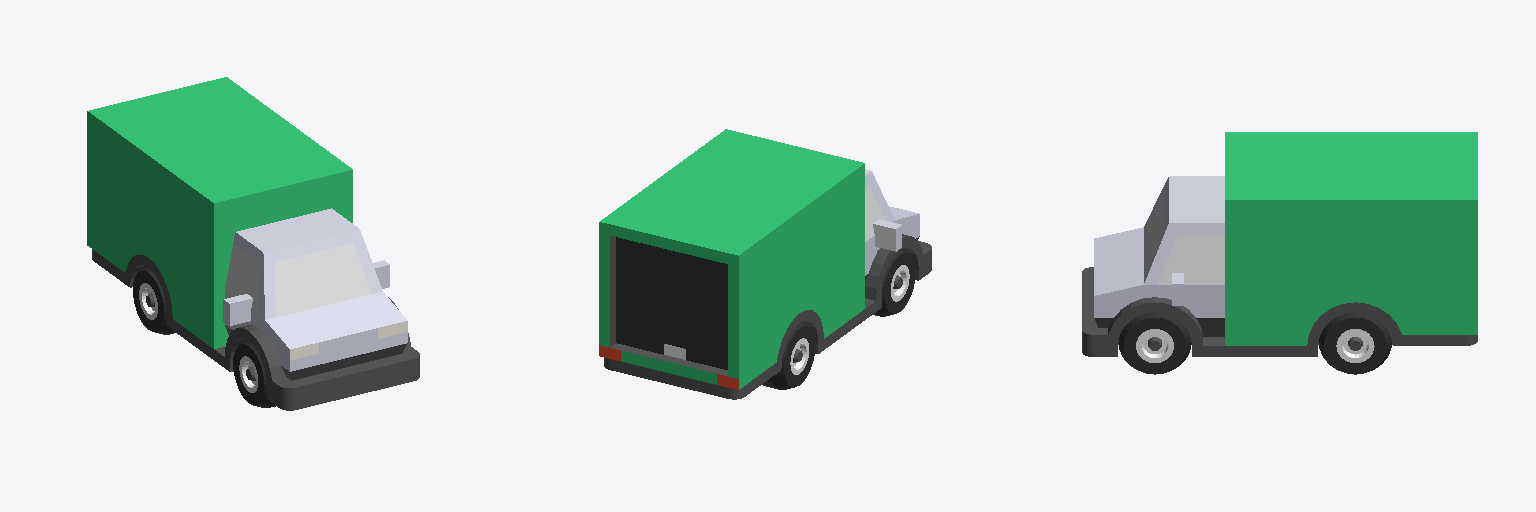
File: delivery.obj
The picture shows the model from 3 angles: view 1: azimuth 30°, elevation 25°; view 2: azimuth 150°, elevation 25°; view 3: azimuth 270°, elevation 25°; orthographic projection.
Visible parts, largest first — view 1: body, wheel_backRight, wheel_frontRight; view 2: body, door, wheel_backRight, wheel_frontRight; view 3: body, wheel_backLeft, wheel_frontLeft.
Part boxes in pixels (bbox=[...]): body: bbox=[87, 77, 419, 410]; wheel_backRight: bbox=[133, 266, 175, 334]; wheel_frontRight: bbox=[233, 340, 275, 407]; body: bbox=[599, 129, 931, 399]; door: bbox=[616, 237, 727, 369]; wheel_backRight: bbox=[762, 322, 815, 389]; wheel_frontRight: bbox=[873, 248, 915, 316]; body: bbox=[1082, 132, 1477, 356]; wheel_backLeft: bbox=[1319, 312, 1391, 374]; wheel_frontLeft: bbox=[1118, 312, 1191, 374].
Bounding box in the file's own units: 59.06 × 62.99 × 126.